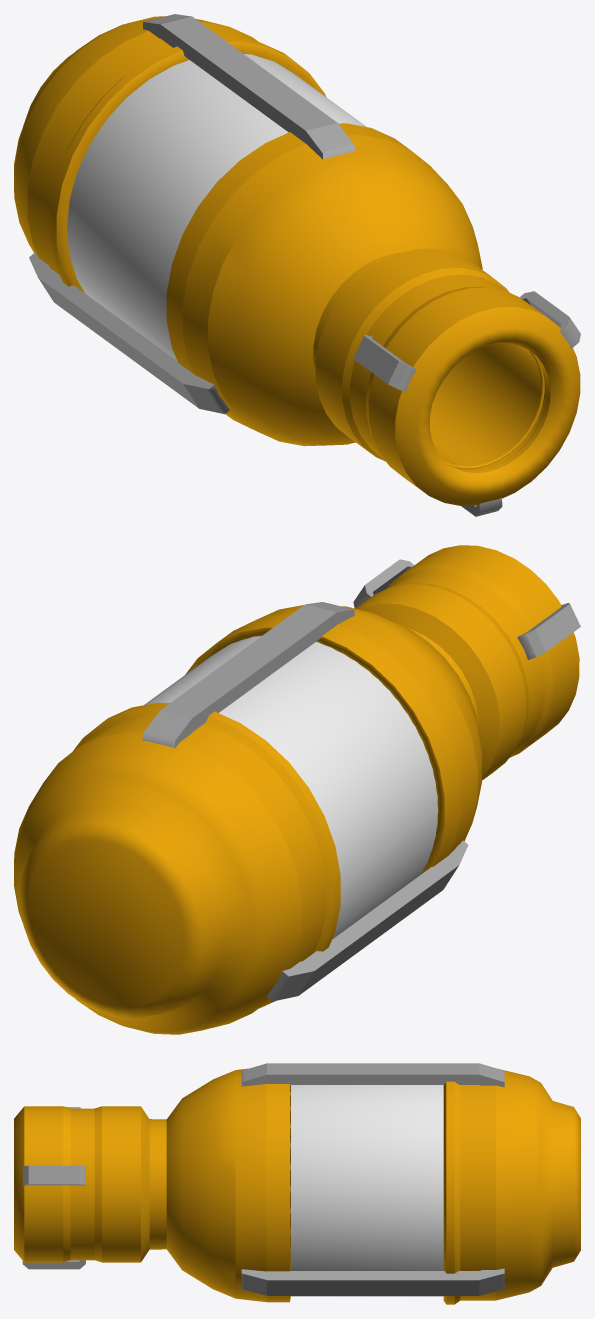
Rendered from beegun (2).fbx.
3 renders of one model, top to bottom at view 1: azimuth 30°, elevation 25°; view 2: azimuth 150°, elevation 25°; view 3: azimuth 270°, elevation 25°, orthographic. The views are drawn at different scales.
Parts seen in each view (by area): view 1: main, glass out; view 2: main, glass out; view 3: main, glass out.
Boxes of the visible parts, x1,y1,x2,y2 form: main: (14, 14, 580, 516); glass out: (67, 54, 366, 360); main: (14, 545, 580, 1034); glass out: (144, 636, 438, 939); main: (14, 1063, 580, 1304); glass out: (290, 1085, 443, 1296).
Size of the model in its own units: 51.18 by 52.75 by 121.
